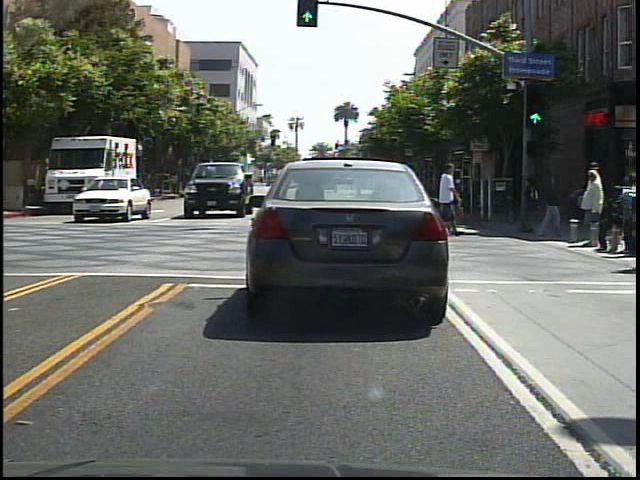person: (433, 149, 471, 247), (535, 170, 568, 242), (583, 166, 607, 254), (519, 174, 547, 236)
